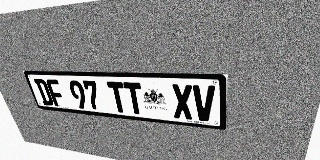7: (81, 81, 103, 111)
9: (67, 80, 89, 109)
D: (33, 79, 55, 106)
F: (45, 79, 67, 107)
T: (123, 82, 145, 115), (106, 82, 129, 113)
V: (193, 85, 215, 122)
X: (171, 84, 193, 120)
